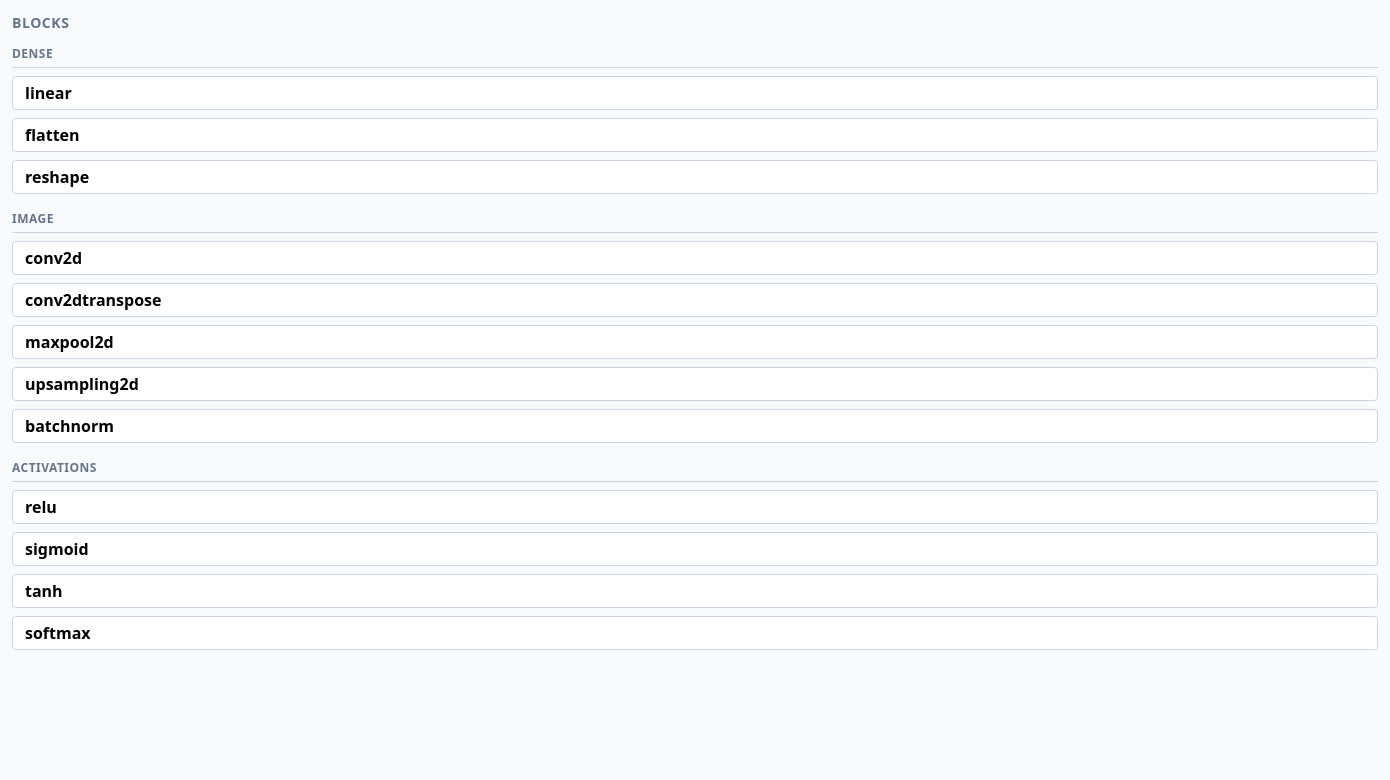
BlockPalette › collapses and expands a category
Step 1. Click the button with test id "palette-category-dense" → click(33, 54), box [12, 41, 1378, 68]
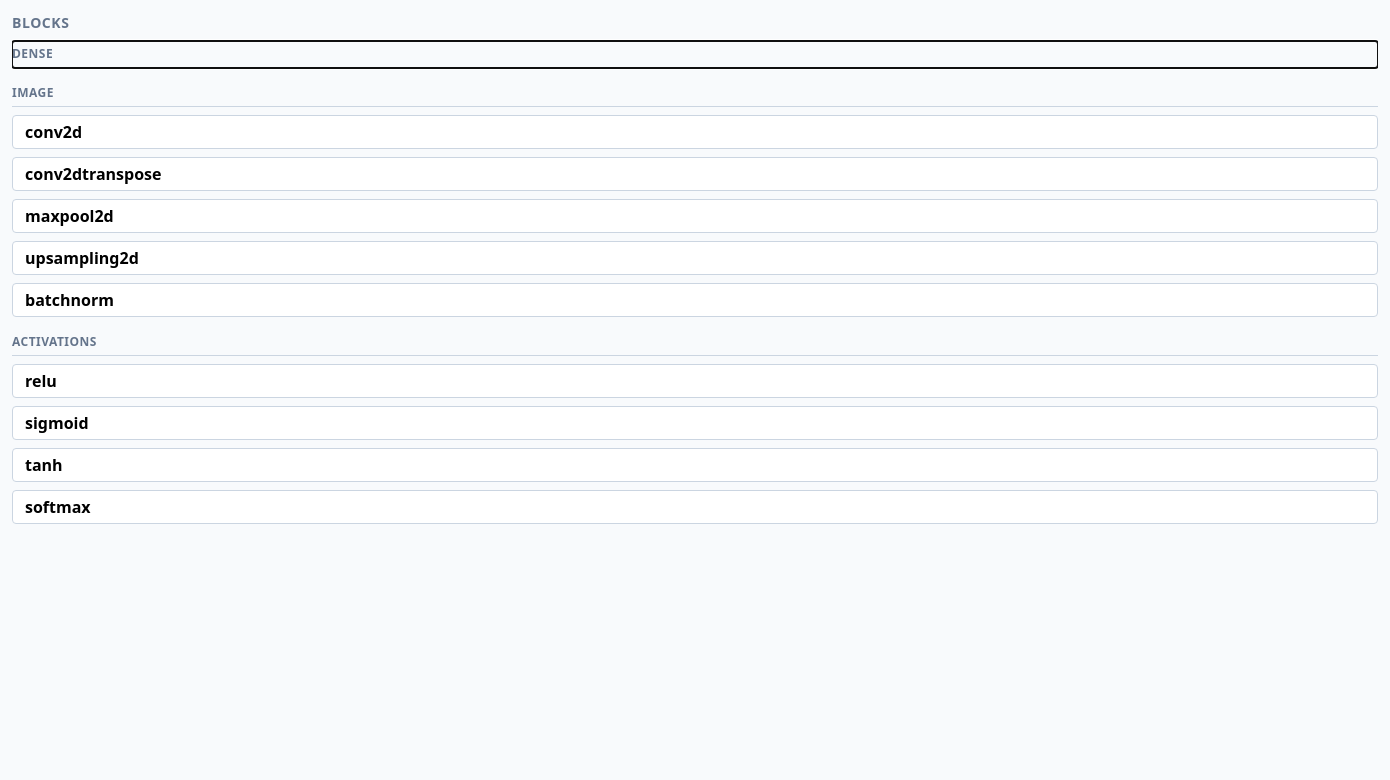
Check: the button with test id "palette-linear" is gone
Step 2. Click the button with test id "palette-category-dense" → click(33, 54), box [12, 41, 1378, 68]
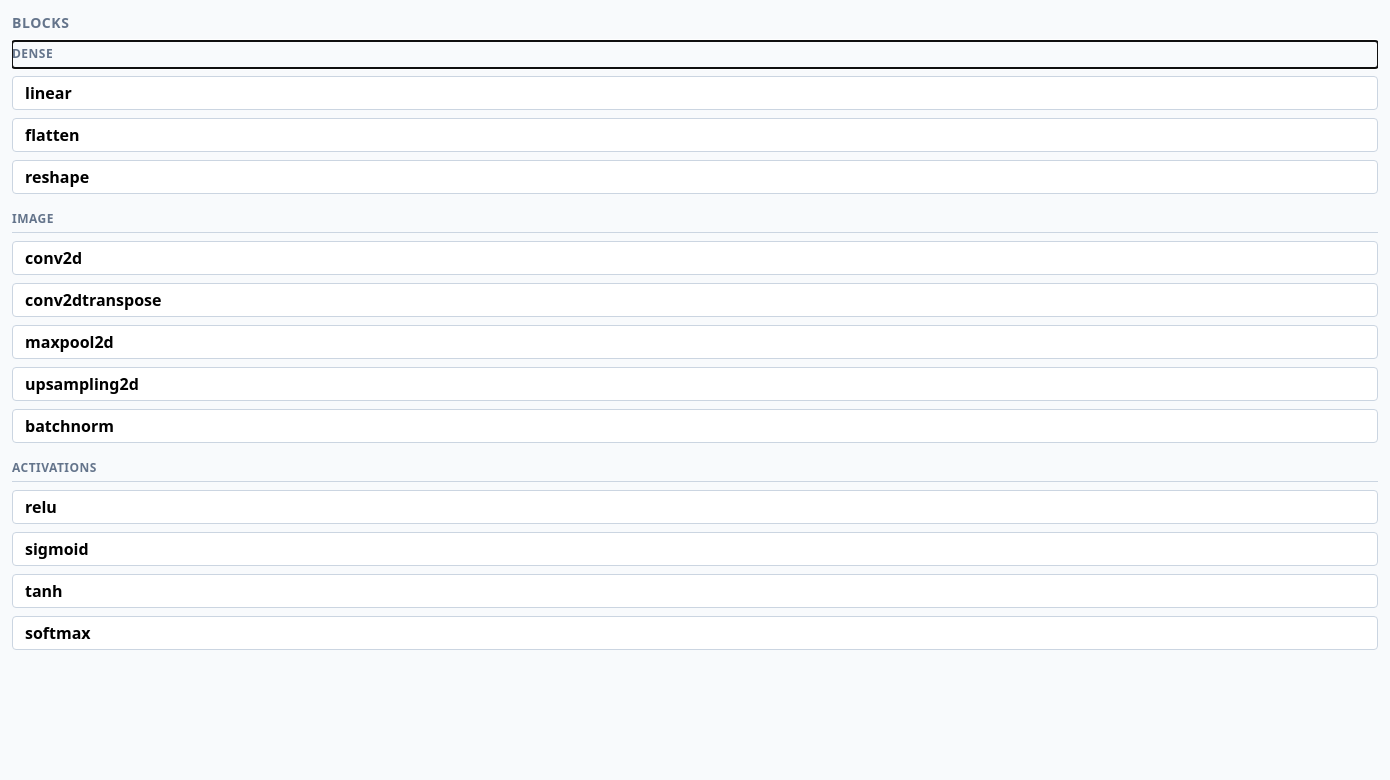
Check: the button with test id "palette-linear" is shown, box [12, 76, 1378, 110]
